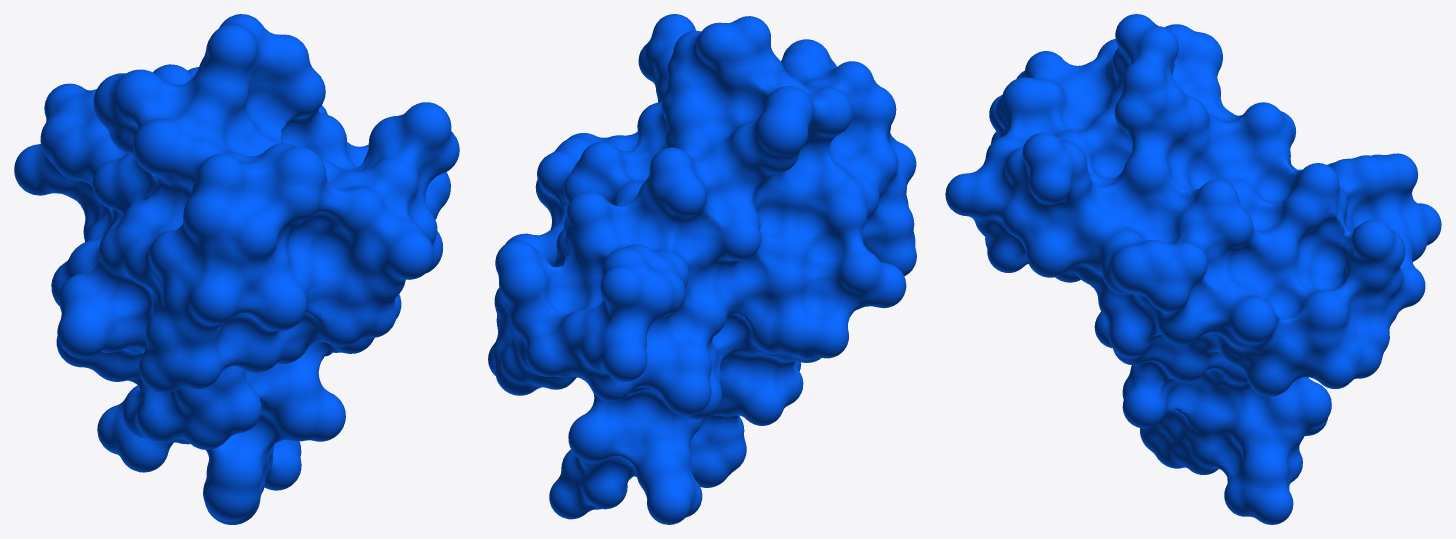
Rendered from vaccine_molecular.obj.
3 views of the same model, side by side, from view 1: azimuth 30°, elevation 25°; view 2: azimuth 150°, elevation 25°; view 3: azimuth 270°, elevation 25° (orthographic). The views are drawn at different scales.
Bounding box in the file's own units: 27.38 × 35.78 × 35.24.
